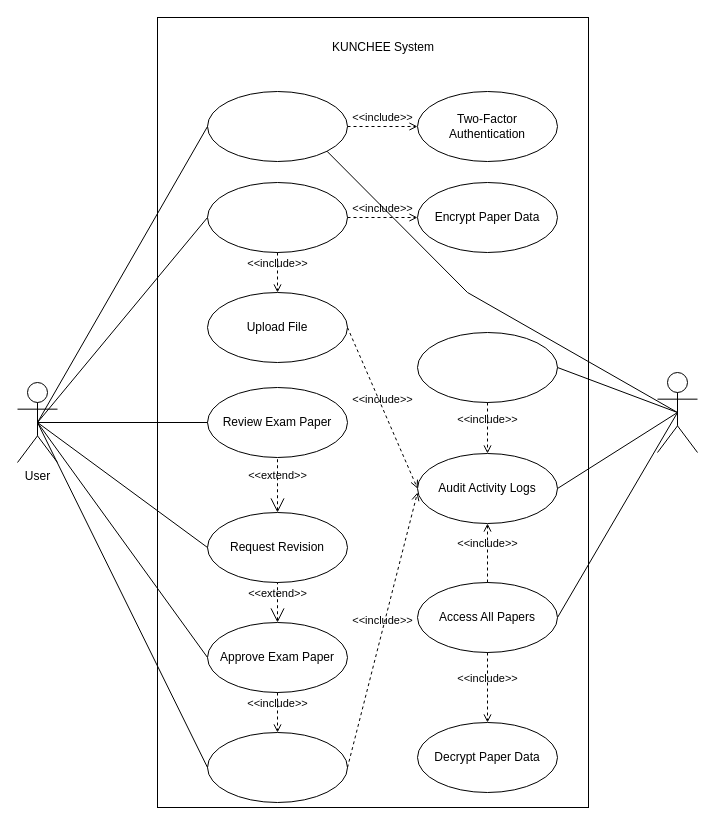
Some shapes in this 722 by 825 pixel diagram are drawn without their labels. Here are the shapes that lost their labels. From the top down, the centre of each, then its label:
At pixel 277 126: "Login to System".
At pixel 277 217: "Create Exam Paper".
At pixel 487 367: "Manage User Roles".
At pixel 677 412: "Exam Unit".
At pixel 277 767: "Upload Final Paper".
